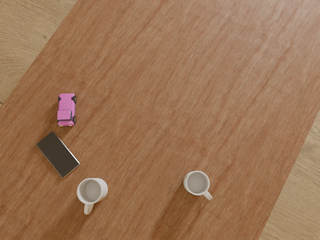cup: (77, 178, 108, 214), (184, 171, 212, 200)
phone: (36, 131, 80, 178)
toy_car: (58, 94, 76, 126)
